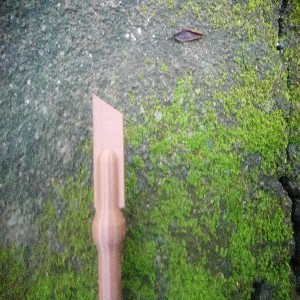cutter: (90, 91, 126, 300)
